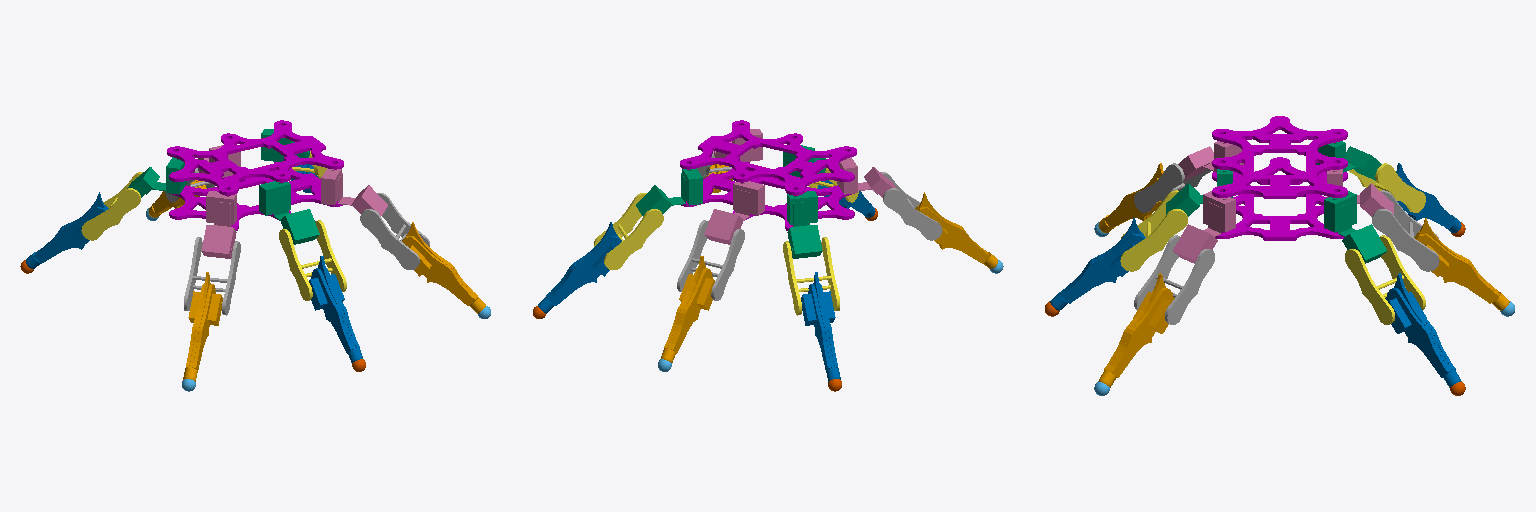
robot.urdf — Robert:
<?xml version="1.0"?>
<robot xmlns:xacro="http://www.ros.org/wiki/xacro" name="Robert">
	<material name="blue">
		<color rgba="0.8 0 0.8 1"/>
	</material>

  
    <!--Base-->
        <!--Actual weight is 0.059kg added 100g per base plate-->
        <link name="base_bottom">
            <visual>
                <geometry>
                    <mesh filename="robert_base.stl" />
                </geometry>
                <material name="blue"/>
            </visual>
            <collision>
                <geometry>
                    <mesh filename="robert_base.stl" />
                </geometry>
            </collision>
            <inertial>
              <mass value="0.259"/>
              <inertia ixx="0" ixy="0" ixz="0" iyy="0" iyz="0" izz="0"/>
            </inertial>
        </link>
        <link name="base_top">
            <visual>
                <geometry>
                    <mesh filename="robert_base.stl" />
                </geometry>
                <material name="blue"/>
            </visual>
            <collision>
                <geometry>
                    <mesh filename="robert_base.stl" />
                </geometry>
            </collision>
            <inertial>
                <mass value="0.259"/>
                <inertia ixx="0" ixy="0" ixz="0" iyy="0" iyz="0" izz="0"/>
            </inertial>
        </link>
        <joint name="base_bottom_to_top" type="fixed">
            <parent link="base_bottom"/>
            <child link="base_top"/>
            <origin xyz="0 0 0.058"/>
        </joint>
        
    <!--Right first leg A-->
        <link name = "right_first_leg_A">
            <visual>
                <geometry>
                    <mesh filename="robert_right_leg_a.stl" />
                </geometry>
                <origin rpy="0 0 0" xyz="0 0 0"/>
            </visual>
            <collision>
                <geometry>
                    <mesh filename="robert_right_leg_a.stl" />
                </geometry>
                <origin rpy="0 0 0" xyz="0 0.02 0"/>
            </collision>
            <inertial>
                <mass value="0.12"/>
                <inertia ixx="0" ixy="0" ixz="0" iyy="0" iyz="0" izz="0"/>
            </inertial>
        </link>
        <joint name="right_first_leg_Base_to_A" type="revolute">
            <axis xyz="0 0 1"/>
            <limit effort="1000.0" velocity="3.77" lower="-1.57" upper="1.57" />
            <parent link="base_bottom"/>
            <child link="right_first_leg_A"/>
            <origin rpy="0 0 -0.78" xyz="0.085 0.07 0.03"/>
            <joint_properties damping="0.0" friction="0.0"/>
        </joint>

    <!--Right first leg B-->
        <link name = "right_first_leg_B">
            <visual>
                <geometry>
                    <mesh filename="robert_right_leg_b.stl" />
                </geometry>
            </visual>
            <collision>
                <geometry>
                    <mesh filename="robert_right_leg_b.stl" />
                </geometry>
            </collision>
            <inertial>
                <mass value="0.04"/>
                <inertia ixx="0" ixy="0" ixz="0" iyy="0" iyz="0" izz="0"/>
            </inertial>
        </link>
        <joint name="right_first_leg_A_to_B" type="revolute">
            <axis xyz="1 0 0"/>
            <limit effort="1000.0" velocity="3.77" lower="0" upper="2.356" />
            <parent link="right_first_leg_A"/>
            <child link="right_first_leg_B"/>
            <origin rpy="-0.785 0 0" xyz="0 0.06 -0.035"/>
            <joint_properties damping="0.0" friction="0.0"/>
        </joint>

    <!--Right first leg C-->
        <link name = "right_first_leg_C">
            <visual>
                <geometry>
                    <mesh filename="robert_right_leg_c.stl" />
                </geometry>
                <origin rpy="0 0 0" xyz="0 0 0"/>
            </visual>
            <collision>
                <geometry>
                    <mesh filename="robert_right_leg_c.stl" />
                </geometry>
                <origin rpy="0 0 0" xyz="0 0 0"/>
                
            </collision>
            <inertial>
                <mass value="0.06"/>
                <inertia ixx="0" ixy="0" ixz="0" iyy="0" iyz="0" izz="0"/>
            </inertial>
            <contact>
                <friction_anchor/>
                <stiffness value="3000.0"/>
                <damping value="100.0"/>
                <spinning_friction value=".3"/>
                <lateral_friction value="1"/>
		    </contact>
        </link>
        <joint name="right_first_leg_B_to_C" type="revolute">
            <axis xyz="1 0 0"/>
            <limit effort="1000.0" velocity="3.77" lower="-2.51" upper="0" />
            <parent link="right_first_leg_B"/>
            <child link="right_first_leg_C"/>
            <origin rpy="0 0 0" xyz="0 0.08 0"/>
            <joint_properties damping="0.0" friction="0.0"/>
        </joint>
        <link name = "right_first_leg_T">
            <visual>
                <geometry>
                    <sphere radius="0.01"/>
                </geometry>
            </visual>
            <inertial>
                <mass value="0.001"/>
                <inertia ixx="0" ixy="0" ixz="0" iyy="0" iyz="0" izz="0"/>
            </inertial>
        </link>
        <joint name="right_first_leg_C_to_T" type="fixed">
                <parent link="right_first_leg_C"/>
                <child link="right_first_leg_T"/>
                <origin rpy="0 0 0" xyz="0 0.13 0.015"/>
        </joint>

    <!--Right second leg A-->
        <link name = "right_second_leg_A">
            <visual>
                <geometry>
                    <mesh filename="robert_right_leg_a.stl" />
                </geometry>
            </visual>
            <collision>
                <geometry>
                    <mesh filename="robert_right_leg_a.stl" />
                </geometry>
            </collision>
            <inertial>
                <mass value="0.12"/>
                <inertia ixx="0" ixy="0" ixz="0" iyy="0" iyz="0" izz="0"/>
            </inertial>
        </link>
        <joint name="right_second_leg_Base_to_A" type="revolute">
            <axis xyz="0 0 1"/>
            <limit effort="1000.0" velocity="1.0" lower="-1.57" upper="1.57" />
            <parent link="base_bottom"/>
            <child link="right_second_leg_A"/>
            <origin rpy="0 0 0" xyz="0 0.07 0.03"/>
        </joint>

    <!--Right second leg B-->
        <link name = "right_second_leg_B">
            <visual>
                <geometry>
                    <mesh filename="robert_right_leg_b.stl" />
                </geometry>
            </visual>
            <collision>
                <geometry>
                    <mesh filename="robert_right_leg_b.stl" />
                </geometry>
            </collision>
            <inertial>
                <mass value="0.04"/>
                <inertia ixx="0" ixy="0" ixz="0" iyy="0" iyz="0" izz="0"/>
            </inertial>
        </link>
        <joint name="right_second_leg_A_to_B" type="revolute">
            <axis xyz="1 0 0"/>
            <limit effort="1000.0" velocity="1.0" lower="0" upper="2.356" />
            <parent link="right_second_leg_A"/>
            <child link="right_second_leg_B"/>
            <origin rpy="-0.785 0 0" xyz="0 0.06 -0.035"/>
        </joint>

    <!--Right second leg C-->
        <link name = "right_second_leg_C">
            <visual>
                <geometry>
                    <mesh filename="robert_right_leg_c.stl" />
                </geometry>
                <origin rpy="0 0 0" xyz="0 0 0"/>
            </visual>
            <collision>
                <geometry>
                    <mesh filename="robert_right_leg_c.stl" />
                </geometry>
                <origin rpy="0 0 0" xyz="0 0 0"/>
            </collision>
            <inertial>
                <mass value="0.06"/>
                <inertia ixx="0" ixy="0" ixz="0" iyy="0" iyz="0" izz="0"/>
            </inertial>
        </link>
        <joint name="right_second_leg_B_to_C" type="revolute">
            <axis xyz="1 0 0"/>
            <limit effort="1000.0" velocity="1.0" lower="-2.51" upper="0" />
            <parent link="right_second_leg_B"/>
            <child link="right_second_leg_C"/>
            <origin rpy="0 0 0" xyz="0 0.08 0"/>
        </joint>
        <link name = "right_second_leg_T">
            <visual>
                <geometry>
                    <sphere radius="0.01"/>
                </geometry>
            </visual>
            <inertial>
                <mass value="0.001"/>
                <inertia ixx="0" ixy="0" ixz="0" iyy="0" iyz="0" izz="0"/>
            </inertial>
        </link>
        <joint name="right_second_leg_C_to_T" type="fixed">
                <parent link="right_second_leg_C"/>
                <child link="right_second_leg_T"/>
                <origin rpy="0 0 0" xyz="0 0.13 0.015"/>
        </joint>
    <!--Right third leg A-->
        <link name = "right_third_leg_A">
            <visual>
                <geometry>
                    <mesh filename="robert_right_leg_a.stl" />
                </geometry>
            </visual>
            <collision>
                <geometry>
                    <mesh filename="robert_right_leg_a.stl" />
                </geometry>
            </collision>
            <inertial>
                <mass value="0.12"/>
                <inertia ixx="0" ixy="0" ixz="0" iyy="0" iyz="0" izz="0"/>
            </inertial>
        </link>
        <joint name="right_third_leg_Base_to_A" type="revolute">
            <axis xyz="0 0 1"/>
            <limit effort="1000.0" velocity="1.0" lower="-1.57" upper="1.57" />
            <parent link="base_bottom"/>
            <child link="right_third_leg_A"/>
            <origin rpy="0 0 0.78" xyz="-0.085 0.07 0.03"/>
        </joint>

    <!--Right third leg B-->
        <link name = "right_third_leg_B">
            <visual>
                <geometry>
                    <mesh filename="robert_right_leg_b.stl" />
                </geometry>
            </visual>
            <collision>
                <geometry>
                    <mesh filename="robert_right_leg_b.stl" />
                </geometry>
            </collision>
            <inertial>
                <mass value="0.04"/>
                <inertia ixx="0" ixy="0" ixz="0" iyy="0" iyz="0" izz="0"/>
            </inertial>
        </link>
        <joint name="right_third_leg_A_to_B" type="revolute">
            <axis xyz="1 0 0"/>
            <limit effort="1000.0" velocity="1.0" lower="0" upper="2.356" />
            <parent link="right_third_leg_A"/>
            <child link="right_third_leg_B"/>
            <origin rpy="-0.785 0 0" xyz="0 0.06 -0.035"/>
        </joint>

    <!--Right third leg C-->
        <link name = "right_third_leg_C">
            <visual>
                <geometry>
                    <mesh filename="robert_right_leg_c.stl" />
                </geometry>
                <origin rpy="0 0 0" xyz="0 0 0"/>
            </visual>
            <collision>
                <geometry>
                    <mesh filename="robert_right_leg_c.stl" />
                </geometry>
                <origin rpy="0 0 0" xyz="0 0 0"/>
            </collision>
            <inertial>
                <mass value="0.06"/>
                <inertia ixx="0" ixy="0" ixz="0" iyy="0" iyz="0" izz="0"/>
            </inertial>
            <contact>
                <friction_anchor/>
                <stiffness value="3000.0"/>
                <damping value="100.0"/>
                <spinning_friction value=".3"/>
                <lateral_friction value="1"/>
		    </contact>
        </link>
        <joint name="right_third_leg_B_to_C" type="revolute">
            <axis xyz="1 0 0"/>
            <limit effort="1000.0" velocity="1.0" lower="-2.51" upper="0" />
            <parent link="right_third_leg_B"/>
            <child link="right_third_leg_C"/>
            <origin rpy="0 0 0" xyz="0 0.08 0"/>
        </joint>
        <link name = "right_third_leg_T">
            <visual>
                <geometry>
                    <sphere radius="0.01"/>
                </geometry>
            </visual>
            <inertial>
                <mass value="0.001"/>
                <inertia ixx="0" ixy="0" ixz="0" iyy="0" iyz="0" izz="0"/>
            </inertial>
        </link>
        <joint name="right_third_leg_C_to_T" type="fixed">
            <parent link="right_third_leg_C"/>
            <child link="right_third_leg_T"/>
            <origin rpy="0 0 0" xyz="0 0.13 0.015"/>
        </joint>
        
    
    <!--Left first leg A-->
        <link name = "left_first_leg_A">
            <visual>
                <geometry>
                    <mesh filename="robert_left_leg_a.stl" />
                </geometry>
            </visual>
            <collision>
                <geometry>
                    <mesh filename="robert_left_leg_a.stl" />
                </geometry>
            </collision>
            <inertial>
                <mass value="0.12"/>
                <inertia ixx="0" ixy="0" ixz="0" iyy="0" iyz="0" izz="0"/>
            </inertial>
        </link>
        <joint name="left_first_leg_Base_to_A" type="revolute">
            <axis xyz="0 0 1"/>
            <limit effort="1000.0" velocity="3.77" lower="-1.57" upper="1.57" />
            <parent link="base_bottom"/>
            <child link="left_first_leg_A"/>
            <origin rpy="0 0 0.78" xyz="0.085 -0.07 0.03"/>
            <joint_properties damping="0.0" friction="0.0"/>
        </joint>
    <!--Left first leg B-->
        <link name = "left_first_leg_B">
            <visual>
                <geometry>
                    <mesh filename="robert_left_leg_b.stl" />
                </geometry>
            </visual>
            <collision>
                <geometry>
                    <mesh filename="robert_left_leg_b.stl" />
                </geometry>
            </collision>
            <inertial>
                <mass value="0.04"/>
                <inertia ixx="0" ixy="0" ixz="0" iyy="0" iyz="0" izz="0"/>
            </inertial>
        </link>
        <joint name="left_first_leg_A_to_B" type="revolute">
            <axis xyz="1 0 0"/>
            <limit effort="1000.0" velocity="3.77" lower="-2.356" upper="0" />
            <parent link="left_first_leg_A"/>
            <child link="left_first_leg_B"/>
            <origin rpy="0.785 0 0" xyz="0 -0.06 -0.035"/>
            <joint_properties damping="0.0" friction="0.0"/>
        </joint>
    <!--Left first leg C-->
        <link name = "left_first_leg_C">
            <visual>
                <geometry>
                    <mesh filename="robert_left_leg_c.stl" />
                </geometry>
            </visual>
            <collision>
                <geometry>
                    <mesh filename="robert_left_leg_c.stl" />
                </geometry>
            </collision>
            <inertial>
                <mass value="0.06"/>
                <inertia ixx="0" ixy="0" ixz="0" iyy="0" iyz="0" izz="0"/>
            </inertial>
            <contact>
                <friction_anchor/>
                <stiffness value="3000.0"/>
                <damping value="100.0"/>
                <spinning_friction value=".3"/>
                <lateral_friction value="1"/>
		    </contact>
        </link>
        <joint name="left_first_leg_B_to_C" type="revolute">
            <axis xyz="1 0 0"/>
            <limit effort="1000.0" velocity="3.77" lower="0" upper="2.51" />
            <parent link="left_first_leg_B"/>
            <child link="left_first_leg_C"/>
            <origin rpy="0 0 0" xyz="0 -0.08 0"/>
            <joint_properties damping="0.0" friction="0.0"/>
        </joint>
        <link name = "left_first_leg_T">
            <visual>
                <geometry>
                    <sphere radius="0.01"/>
                </geometry>
            </visual>
            <inertial>
                <mass value="0.001"/>
                <inertia ixx="0" ixy="0" ixz="0" iyy="0" iyz="0" izz="0"/>
            </inertial>
        </link>
        <joint name="left_first_leg_C_to_T" type="fixed">
            <parent link="left_first_leg_C"/>
            <child link="left_first_leg_T"/>
            <origin rpy="0 0 0" xyz="0 -0.13 0.015"/>
        </joint>


    <!--Left second leg A-->
        <link name = "left_second_leg_A">
            <visual>
                <geometry>
                    <mesh filename="robert_left_leg_a.stl" />
                </geometry>
            </visual>
            <collision>
                <geometry>
                    <mesh filename="robert_left_leg_a.stl" />
                </geometry>
            </collision>
            <inertial>
                <mass value="0.12"/>
                <inertia ixx="0" ixy="0" ixz="0" iyy="0" iyz="0" izz="0"/>
            </inertial>
        </link>
        <joint name="left_second_leg_Base_to_A" type="revolute">
            <axis xyz="0 0 1"/>
            <limit effort="1000.0" velocity="1.0" lower="-1.57" upper="1.57" />
            <parent link="base_bottom"/>
            <child link="left_second_leg_A"/>
            <origin rpy="0 0 0" xyz="0 -0.07 0.03"/>
        </joint>

    <!--Left second leg B-->
        <link name = "left_second_leg_B">
            <visual>
                <geometry>
                    <mesh filename="robert_left_leg_b.stl" />
                </geometry>
            </visual>
            <collision>
                <geometry>
                    <mesh filename="robert_left_leg_b.stl" />
                </geometry>
            </collision>
            <inertial>
                <mass value="0.04"/>
                <inertia ixx="0" ixy="0" ixz="0" iyy="0" iyz="0" izz="0"/>
            </inertial>
        </link>
        <joint name="left_second_leg_A_to_B" type="revolute">
            <axis xyz="1 0 0"/>
            <limit effort="1000.0" velocity="1.0" lower="-2.356" upper="0" />
            <parent link="left_second_leg_A"/>
            <child link="left_second_leg_B"/>
            <origin rpy="0.785 0 0" xyz="0 -0.06 -0.035"/>
        </joint>

    <!--Left second leg C-->
        <link name = "left_second_leg_C">
            <visual>
                <geometry>
                    <mesh filename="robert_left_leg_c.stl" />
                </geometry>
                <origin rpy="0 0 0" xyz="0 0 0"/>
            </visual>
            <collision>
                <geometry>
                    <mesh filename="robert_left_leg_c.stl" />
                </geometry>
                <origin rpy="0 0 0" xyz="0 0 0"/>
            </collision>
            <inertial>
                <mass value="0.06"/>
                <inertia ixx="0" ixy="0" ixz="0" iyy="0" iyz="0" izz="0"/>
            </inertial>
        </link>
        <joint name="left_second_leg_B_to_C" type="revolute">
            <axis xyz="1 0 0"/>
            <limit effort="1000.0" velocity="1.0" lower="0" upper="2.51" />
            <parent link="left_second_leg_B"/>
            <child link="left_second_leg_C"/>
            <origin rpy="0 0 0" xyz="0 -0.08 0"/>
        </joint>
        <link name = "left_second_leg_T">
            <visual>
                <geometry>
                    <sphere radius="0.01"/>
                </geometry>
            </visual>
            <inertial>
                <mass value="0.001"/>
                <inertia ixx="0" ixy="0" ixz="0" iyy="0" iyz="0" izz="0"/>
            </inertial>
        </link>
        <joint name="left_second_leg_C_to_T" type="fixed">
                <parent link="left_second_leg_C"/>
                <child link="left_second_leg_T"/>
                <origin rpy="0 0 0" xyz="0 -0.13 0.015"/>
        </joint>
    <!--Left third leg A-->
        <link name = "left_third_leg_A">
            <visual>
                <geometry>
                    <mesh filename="robert_left_leg_a.stl" />
                </geometry>
            </visual>
            <collision>
                <geometry>
                    <mesh filename="robert_left_leg_a.stl" />
                </geometry>
            </collision>
            <inertial>
                <mass value="0.12"/>
                <inertia ixx="0" ixy="0" ixz="0" iyy="0" iyz="0" izz="0"/>
            </inertial>
        </link>
        <joint name="left_third_leg_Base_to_A" type="revolute">
            <axis xyz="0 0 1"/>
            <limit effort="1000.0" velocity="1.0" lower="-1.57" upper="1.57" />
            <parent link="base_bottom"/>
            <child link="left_third_leg_A"/>
            <origin rpy="0 0 -0.78" xyz="-0.085 -0.07 0.03"/>
        </joint>

     <!--Left third leg B-->
        <link name = "left_third_leg_B">
            <visual>
                <geometry>
                    <mesh filename="robert_left_leg_b.stl" />
                </geometry>
            </visual>
            <collision>
                <geometry>
                    <mesh filename="robert_left_leg_b.stl" />
                </geometry>
            </collision>
            <inertial>
                <mass value="0.04"/>
                <inertia ixx="0" ixy="0" ixz="0" iyy="0" iyz="0" izz="0"/>
            </inertial>
        </link>
        <joint name="left_third_leg_A_to_B" type="revolute">
            <axis xyz="1 0 0"/>
            <limit effort="1000.0" velocity="1.0" lower="-2.356" upper="0" />
            <parent link="left_third_leg_A"/>
            <child link="left_third_leg_B"/>
            <origin rpy="0.785 0 0" xyz="0 -0.06 -0.035"/>
        </joint>
    <!--Left third leg C-->
        <link name = "left_third_leg_C">
            <visual>
                <geometry>
                    <mesh filename="robert_left_leg_c.stl" />
                </geometry>
            </visual>
            <collision>
                <geometry>
                    <mesh filename="robert_left_leg_c.stl" />
                </geometry>
            </collision>
            <inertial>
                <mass value="0.06"/>
                <inertia ixx="0" ixy="0" ixz="0" iyy="0" iyz="0" izz="0"/>
            </inertial>
            <contact>
                <friction_anchor/>
                <stiffness value="3000.0"/>
                <damping value="100.0"/>
                <spinning_friction value=".3"/>
                <lateral_friction value="1"/>
            </contact>
        </link>
        <joint name="left_third_leg_B_to_C" type="revolute">
            <axis xyz="1 0 0"/>
            <limit effort="1000.0" velocity="1.0" lower="0" upper="2.51" />
            <parent link="left_third_leg_B"/>
            <child link="left_third_leg_C"/>
            <origin rpy="0 0 0" xyz="0 -0.08 0"/>
        </joint>
        <link name = "left_third_leg_T">
            <visual>
                <geometry>
                    <sphere radius="0.01"/>
                </geometry>
            </visual>
            <inertial>
                <mass value="0.001"/>
                <inertia ixx="0" ixy="0" ixz="0" iyy="0" iyz="0" izz="0"/>
            </inertial>
        </link>
        <joint name="left_third_leg_C_to_T" type="fixed">
            <parent link="left_third_leg_C"/>
            <child link="left_third_leg_T"/>
            <origin rpy="0 0 0" xyz="0 -0.13 0.015"/>
        </joint>
</robot>

--- What the picture shows (computed from the rendered views, not written in the file) ---
3 views of the same robot in one strip: view 1: azimuth 30°, elevation 25°; view 2: azimuth 150°, elevation 25°; view 3: azimuth 270°, elevation 25° (orthographic).
Model Robert with 26 links and 25 joints (18 revolute, 7 fixed), rooted at base_bottom, posed all joints at 0.
Links seen in each view (by area): view 1: base_top, base_bottom, left_second_leg_C, left_first_leg_C, left_first_leg_B, left_third_leg_C, left_second_leg_A, left_third_leg_A, left_second_leg_B, right_third_leg_C, left_first_leg_A, right_third_leg_B (+2 smaller); view 2: base_top, base_bottom, right_second_leg_C, right_first_leg_C, right_first_leg_B, right_third_leg_C, right_second_leg_A, right_third_leg_A, right_second_leg_B, left_third_leg_C, right_first_leg_A, left_third_leg_B (+2 smaller); view 3: base_top, base_bottom, right_first_leg_C, left_first_leg_C, right_first_leg_B, left_first_leg_B, right_second_leg_C, left_second_leg_C, right_first_leg_A, left_first_leg_A, right_second_leg_B, left_second_leg_B (+8 smaller).
Boxes of the visible links, x1,y1,x2,y2 form: base_top: (167,120,343,195); base_bottom: (169,162,342,230); left_second_leg_C: (309,256,362,362); left_first_leg_C: (402,222,485,313); left_first_leg_B: (360,193,429,269); left_third_leg_C: (183,272,222,381); left_second_leg_A: (259,181,319,244); left_third_leg_A: (201,191,236,258); left_second_leg_B: (279,220,346,300); right_third_leg_C: (26,192,108,268); left_first_leg_A: (321,168,387,215); right_third_leg_B: (81,172,142,240); base_top: (680,120,856,195); base_bottom: (681,162,854,230); right_second_leg_C: (661,256,714,362); right_first_leg_C: (538,222,621,313); right_first_leg_B: (594,193,663,269); right_third_leg_C: (801,272,840,381); right_second_leg_A: (704,181,764,244); right_third_leg_A: (787,191,822,258); right_second_leg_B: (677,220,744,300); left_third_leg_C: (915,192,997,268); right_first_leg_A: (636,168,702,215); left_third_leg_B: (881,172,942,240); base_top: (1212,116,1347,198); base_bottom: (1212,157,1347,240); right_first_leg_C: (1385,273,1460,387); left_first_leg_C: (1099,273,1174,387); right_first_leg_B: (1345,235,1425,324); left_first_leg_B: (1134,235,1214,324); right_second_leg_C: (1414,218,1509,310); left_second_leg_C: (1050,218,1145,310); right_first_leg_A: (1324,191,1386,263); left_first_leg_A: (1173,191,1235,263); right_second_leg_B: (1372,190,1439,271); left_second_leg_B: (1120,190,1187,271).
Size in the robot's own frame: 0.4982 by 0.5983 by 0.2158 metres.
20 mesh visuals loaded from 7 distinct referenced files (7 binary STL).
